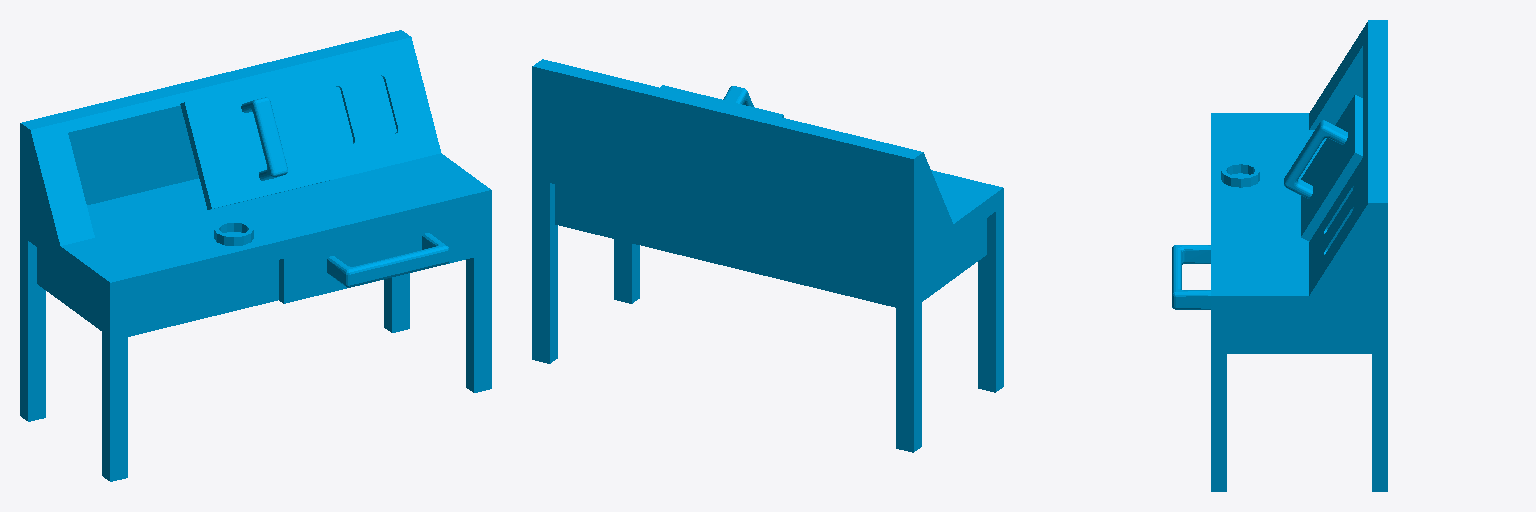
robot.urdf — playtable_8:
<?xml version="1.0" encoding="utf-8"?>
<robot
  name="playtable_8" concave="yes">
  <link
    name="base_link">
    <inertial>
      <origin
        xyz="-0.00874455174683536 0.501032855485917 -0.0450543406685957"
        rpy="0 0 0" />
      <mass
        value="0.0" />
        <!-- value="46.9509300649509" -->
      <inertia
        ixx="1.52184000058477"
        ixy="-0.254749727975985"
        ixz="0.308157438917355"
        iyy="6.45099220326934"
        iyz="0.279082713309664"
        izz="6.27233522074152" />
    </inertial>
    <visual>
      <origin
        xyz="0 0 0"
        rpy="0 0 0" />
      <geometry>
        <mesh
          filename="../meshes/base_link_ood_env.obj" />
      </geometry>
      <material name="light_blue">
       <color rgba="0 0.69 0.94 1"/>
      <!-- <material name="white">
       <color rgba="1 1 1 1"/> -->
     </material>
    </visual>
    <collision concave="yes">
      <origin
        xyz="0 0 0"
        rpy="0 0 0" />
      <geometry>
        <mesh
          filename="../meshes/base_link_ood_env.obj" />
      </geometry>
    </collision>
  </link>
  <link
    name="button_link">
    <inertial>
      <origin
        xyz="2.77555756156289E-17 0.0149999999999999 -2.77555756156289E-17"
        rpy="0 0 0" />
      <mass
        value="0.153812376319756" />
      <inertia
        ixx="7.30608787518843E-05"
        ixy="-1.78342506783922E-37"
        ixz="0"
        iyy="0.000123049901055805"
        iyz="-3.74688824324604E-37"
        izz="7.30608787518843E-05" />
    </inertial>
    <visual>
      <origin
        xyz="0 0 0"
        rpy="0 0 0" />
      <geometry>
        <mesh
          filename="../meshes/button_link.STL" />
      </geometry>
      <material
        name="black">
        <color
          rgba="0.0 0.0 0.0 1" />
      </material>
    </visual>
    <collision>
      <origin
        xyz="0 0 0"
        rpy="0 0 0" />
      <geometry>
        <mesh
          filename="../meshes/button_link.STL" />
      </geometry>
    </collision>
  </link>
  <joint
    name="base__button"
    type="prismatic">
    <origin
      xyz="-0.15 -0.15 0.575"
      rpy="1.5707963267949 0 0" />
    <parent
      link="base_link" />
    <child
      link="button_link" />
    <axis
      xyz="0 -1 0" />
    <limit
      lower="0"
      upper="0.025"
      effort="0"
      velocity="0" />
  </joint>
  <link
    name="switch_link">
    <inertial>
      <origin
        xyz="0 0.0501954388893268 -0.01"
        rpy="0 0 0" />
      <mass
        value="0.238786703751891" />
      <inertia
        ixx="0.000149903694690068"
        ixy="2.96995011323846E-20"
        ixz="5.67423673137366E-21"
        iyy="0.000673716537106872"
        iyz="3.52365706057789E-19"
        izz="0.000767827685519096" />
    </inertial>
    <visual>
      <origin
        xyz="0 0 0"
        rpy="0 0 0" />
      <geometry>
        <mesh
          filename="../meshes/switch_link.obj" />
      </geometry>
      <material
        name="gray">
        <color
          rgba="0.4 0.4 0.4 1" />
      </material>
    </visual>
    <collision>
      <origin
        xyz="0 0 0"
        rpy="0 0 0" />
      <geometry>
        <mesh
          filename="../meshes/switch_link_vhacd2.obj" />
      </geometry>
    </collision>
  </link>
  <joint
    name="base__switch"
    type="prismatic">
    <origin
      xyz="0.375 0.0761602540378436 0.618612159321677"
      rpy="2.61799387799149 0 0" />
    <parent
      link="base_link" />
    <child
      link="switch_link" />
    <axis
      xyz="0 0 -1" />
    <limit
      lower="0"
      upper="0.11"
      effort="0"
      velocity="0" />
  </joint>
  <link
    name="slide_link">
    <inertial>
      <origin
        xyz="-0.175 -1.11022302462516E-16 0.0204147302446787"
        rpy="0 0 0" />
      <mass
        value="1.54349139995684" />
      <inertia
        ixx="0.0102407243866408"
        ixy="-3.58276094546118E-19"
        ixz="-1.08016584477762E-20"
        iyy="0.0146074020666347"
        iyz="-2.34187669256869E-17"
        izz="0.0232176606837711" />
    </inertial>
    <visual>
      <origin
        xyz="0 0 0"
        rpy="0 0 0" />
      <geometry>
        <mesh
          filename="../meshes/slide_link_ood_env.obj" />
      </geometry>
      <material name="light_blue">
       <color rgba="0 0.69 0.94 1"/>
      <!-- <material name="white">
       <color rgba="1 1 1 1"/> -->
     </material>
    </visual>
    <collision>
      <origin
        xyz="0 0 0"
        rpy="0 0 0" />
      <geometry>
        <mesh
          filename="../meshes/slide_link_vhacd2.obj" />
      </geometry>
    </collision>
  </link>
  <joint
    name="base__slide"
    type="prismatic">
    <origin
      xyz="-0.125 0.09375 0.66908"
      rpy="1.04719755119659 0 0" />
    <parent
      link="base_link" />
    <child
      link="slide_link" />
    <axis
      xyz="-1 0 0" />
    <limit
      lower="0"
      upper="0.35"
      effort="0"
      velocity="0" />
  </joint>
  <link
    name="drawer_link">
    <inertial>
      <origin
        xyz="5.55111512312578E-17 0.033198054271063 0.0988554042464424"
        rpy="0 0 0" />
      <mass
        value="4.23128077824699" />
      <inertia
        ixx="0.0592167745250431"
        ixy="-2.00073458850934E-18"
        ixz="-2.91103489387021E-18"
        iyy="0.16375258619816"
        iyz="-4.16732706455145E-05"
        izz="0.11199026473436" />
    </inertial>
    <visual>
      <origin
        xyz="0 0 0"
        rpy="0 0 0" />
      <geometry>
        <mesh
          filename="../meshes/drawer_link_ood_env.obj" />
      </geometry>
      <material name="light_blue">
       <color rgba="0 0.69 0.94 1"/>
      <!-- <material name="white">
       <color rgba="1 1 1 1"/> -->
     </material>
    </visual>
    <collision>
      <origin
        xyz="0 0 0"
        rpy="0 0 0" />
      <geometry>
        <mesh
          filename="../meshes/drawer_link_vhacd2.obj" />
      </geometry>
    </collision>
  </link>
  <joint
    name="base__drawer"
    type="prismatic">
    <origin
      xyz="0.225 0 0.4"
      rpy="1.5707963267949 0 0" />
    <parent
      link="base_link" />
    <child
      link="drawer_link" />
    <axis
      xyz="0 0 1" />
    <limit
      lower="0"
      upper="0.275"
      effort="0"
      velocity="0" />
  </joint>
  <link
    name="led_link">
    <inertial>
      <origin
        xyz="0 0.01 0"
        rpy="0 0 0" />
      <mass
        value="0.204" />
      <inertia
        ixx="4.93E-05"
        ixy="-4.05952398432885E-21"
        ixz="2.7554998213719E-21"
        iyy="0.0007225"
        iyz="2.15993401549847E-21"
        izz="0.0006868" />
    </inertial>
    <visual>
      <origin
        xyz="0 0 0"
        rpy="0 0 0" />
      <geometry>
        <mesh
          filename="../meshes/led_link.STL" />
      </geometry>
      <material
        name="white">
        <color
          rgba="1 1 1 1" />
      </material>
    </visual>
    <collision>
      <origin
        xyz="0 0 0"
        rpy="0 0 0" />
      <geometry>
        <mesh
          filename="../meshes/led_link.STL" />
      </geometry>
    </collision>
  </link>
  <joint
    name="base__led"
    type="fixed">
    <origin
      xyz="-0.15 0.2 0.809807621135331"
      rpy="1.5707963267949 0 0" />
    <parent
      link="base_link" />
    <child
      link="led_link" />
    <axis
      xyz="0 0 0" />
    <limit
      lower="0"
      upper="0"
      effort="0"
      velocity="0" />
  </joint>
  <link
    name="light_link">
    <inertial>
      <origin
        xyz="-5.55111512312578E-17 0.0280266379242365 -0.035"
        rpy="0 0 0" />
      <mass
        value="0.173918312098126" />
      <inertia
        ixx="8.23031895831843E-05"
        ixy="1.89675370717113E-21"
        ixz="4.04382946355204E-38"
        iyy="8.738048875184E-05"
        iyz="8.02658189462508E-38"
        izz="8.23031895831843E-05" />
    </inertial>
    <visual>
      <origin
        xyz="0 0 0"
        rpy="0 0 0" />
      <geometry>
        <mesh
          filename="../meshes/light_link.STL" />
      </geometry>
      <material
        name="white">
        <color
          rgba="1 1 1 1" />
      </material>
    </visual>
    <collision>
      <origin
        xyz="0 0 0"
        rpy="0 0 0" />
      <geometry>
        <mesh
          filename="../meshes/light_link.STL" />
      </geometry>
    </collision>
  </link>
  <joint
    name="base__light"
    type="fixed">
    <origin
      xyz="0.375 0.165 0.80981"
      rpy="1.5708 0 0" />
    <parent
      link="base_link" />
    <child
      link="light_link" />
    <axis
      xyz="0 0 0" />
  </joint>
  <link
    name="plank_link">
    <inertial>
      <origin
        xyz="5.55111512312578E-17 0.0125 0"
        rpy="0 0 0" />
      <mass
        value="2.84375" />
      <inertia
        ixx="0.00740559895833334"
        ixy="9.9836950049708E-20"
        ixz="8.52905709021932E-19"
        iyy="0.107381184895833"
        iyz="1.88079096131566E-34"
        izz="0.100271809895833" />
    </inertial>
    <visual>
      <origin
        xyz="0 0 0"
        rpy="0 0 0" />
      <geometry>
        <mesh
          filename="../meshes/plank_link_ood_env.obj" />
      </geometry>
      <material name="light_blue">
       <color rgba="0 0.69 0.94 1"/>
      <!-- <material name="white">
       <color rgba="1 1 1 1"/> -->
     </material>
    </visual>
    <collision>
      <origin
        xyz="0 0 0"
        rpy="0 0 0" />
      <geometry>
        <mesh
          filename="../meshes/plank_link_ood_env.obj" />
      </geometry>
    </collision>
  </link>
  <joint
    name="base__plank"
    type="fixed">
    <origin
      xyz="-0.125 0.1125 0.525"
      rpy="1.5708 0 0" />
    <parent
      link="base_link" />
    <child
      link="plank_link" />
    <axis
      xyz="0 0 0" />
  </joint>
</robot>

--- Facts derived from the render (not from the file) ---
3 views of the same robot in one strip: view 1: azimuth 30°, elevation 25°; view 2: azimuth 150°, elevation 25°; view 3: azimuth 270°, elevation 25° (orthographic).
Robot: playtable_8 — 8 links, 7 joints (4 prismatic, 3 fixed); root link base_link; default pose: every joint at zero.
Links seen in each view (by area): view 1: base_link, slide_link, drawer_link, plank_link; view 2: base_link, slide_link; view 3: base_link, slide_link, drawer_link.
Link boxes in pixels (left/top/right/bottom): base_link: left=20, top=30, right=491, bottom=481; slide_link: left=180, top=73, right=332, bottom=209; drawer_link: left=279, top=212, right=473, bottom=303; plank_link: left=87, top=178, right=206, bottom=237; base_link: left=532, top=59, right=1003, bottom=452; slide_link: left=660, top=85, right=783, bottom=117; base_link: left=1211, top=20, right=1387, bottom=491; slide_link: left=1284, top=95, right=1362, bottom=241; drawer_link: left=1172, top=245, right=1210, bottom=309.
Size in the robot's own frame: 1.1 by 0.55 by 0.8098 metres.
4 mesh visuals loaded from 8 distinct referenced files (4 OBJ); not drawn: 4 (reference not matched to a file when rendering).
